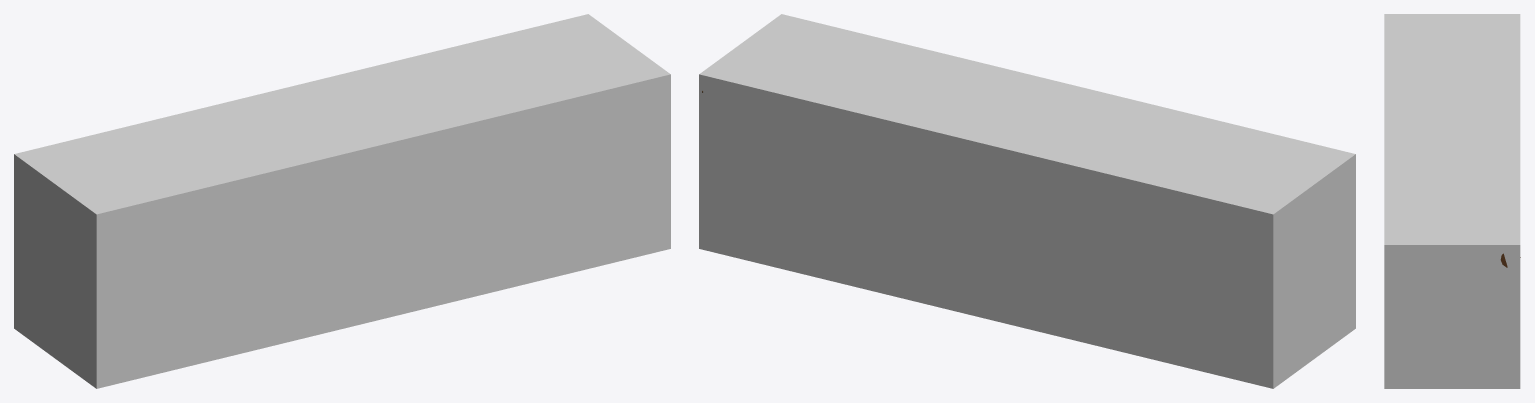
Rendered from Scratchplough.gltf.
The picture shows the model from 3 angles, left to right: view 1: azimuth 30°, elevation 25°; view 2: azimuth 150°, elevation 25°; view 3: azimuth 270°, elevation 25°; orthographic projection. The views are drawn at different scales.
Parts seen in each view (by area): view 1: Box.003; view 2: Box.003; view 3: Box.003.
Boxes of the visible parts, bbox=[...] form: Box.003: bbox=[14, 14, 670, 388]; Box.003: bbox=[699, 14, 1355, 388]; Box.003: bbox=[1384, 14, 1520, 388].
Size of the model in its own units: 2.54 by 0.7422 by 0.6323.
Materials: 3 (3 with a texture image).
